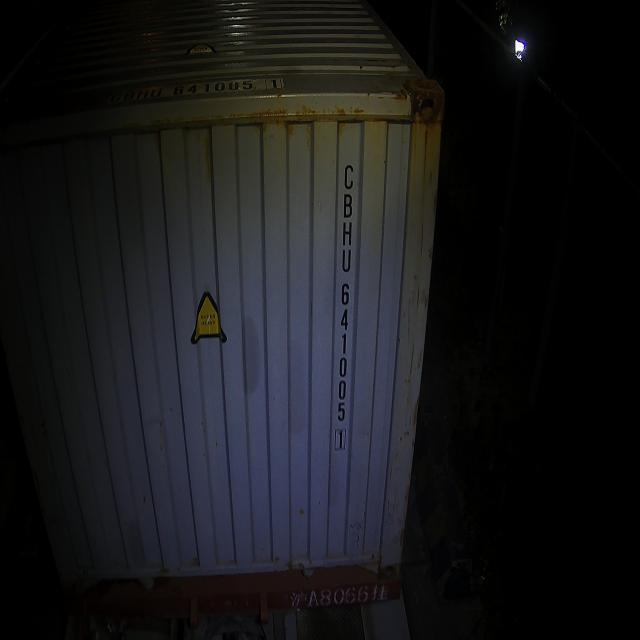container_number: (338, 146, 356, 466)
